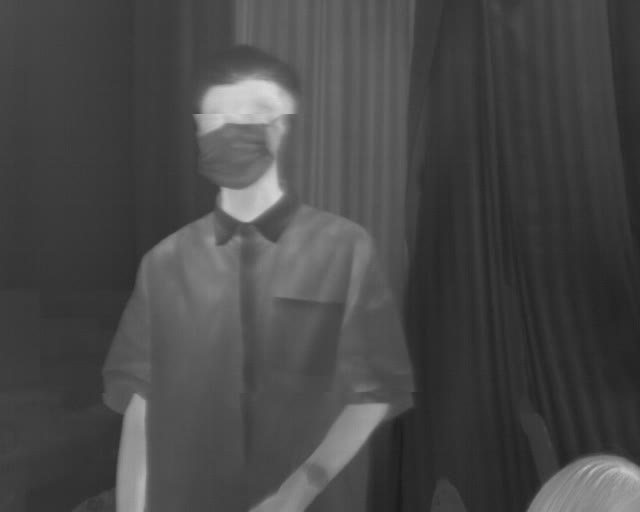face: (191, 43, 303, 189)
